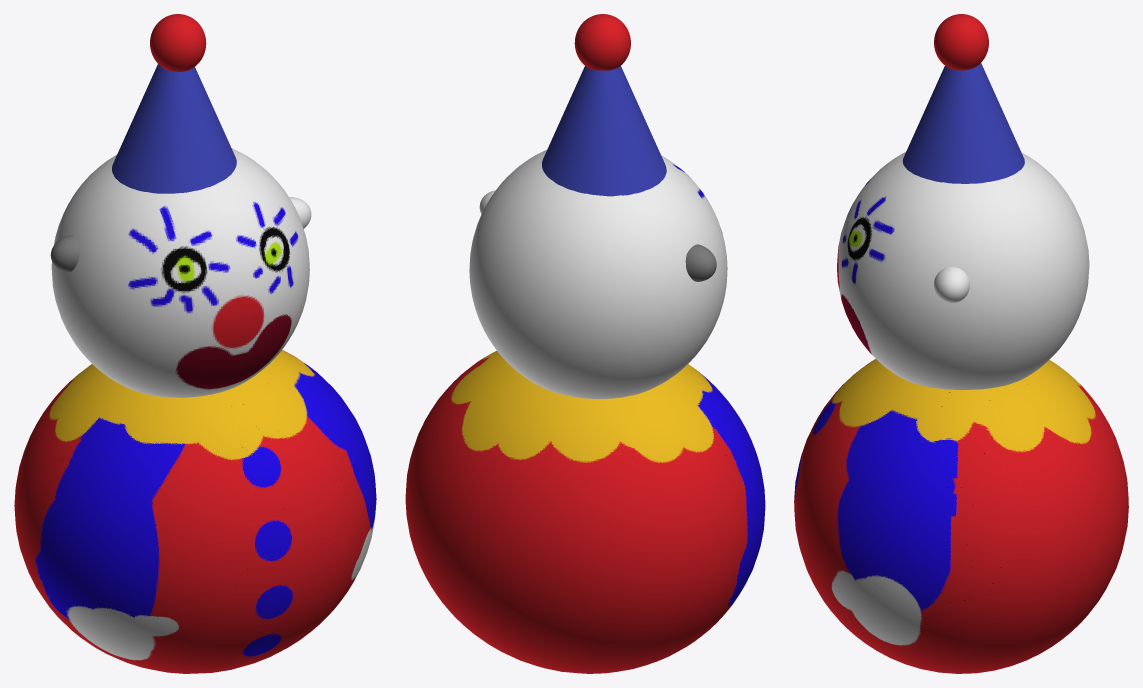
File: fatclown.fbx
3 renders of one model, left to right at view 1: azimuth 30°, elevation 25°; view 2: azimuth 150°, elevation 25°; view 3: azimuth 270°, elevation 25°, orthographic. The views are drawn at different scales.
Parts seen in each view (by area): view 1: node_id49, node_id51, node_id53, node_id41, node_id46; view 2: node_id49, node_id51, node_id53, node_id41, node_id46; view 3: node_id49, node_id51, node_id53, node_id41, node_id44.
Part boxes in pixels (x1,y1,x2,y2): node_id49: [14, 350, 376, 673]; node_id51: [51, 148, 309, 397]; node_id53: [112, 64, 236, 193]; node_id41: [150, 14, 206, 71]; node_id46: [50, 235, 79, 272]; node_id49: [405, 350, 765, 673]; node_id51: [469, 150, 727, 398]; node_id53: [542, 66, 666, 196]; node_id41: [574, 14, 630, 70]; node_id46: [685, 244, 716, 281]; node_id49: [794, 359, 1128, 673]; node_id51: [837, 152, 1089, 389]; node_id53: [902, 63, 1024, 183]; node_id41: [934, 14, 988, 70]; node_id44: [934, 267, 969, 303].
Bounding box in the file's own units: 0.2638 × 0.512 × 0.2461.
6 materials, 2 textured.
